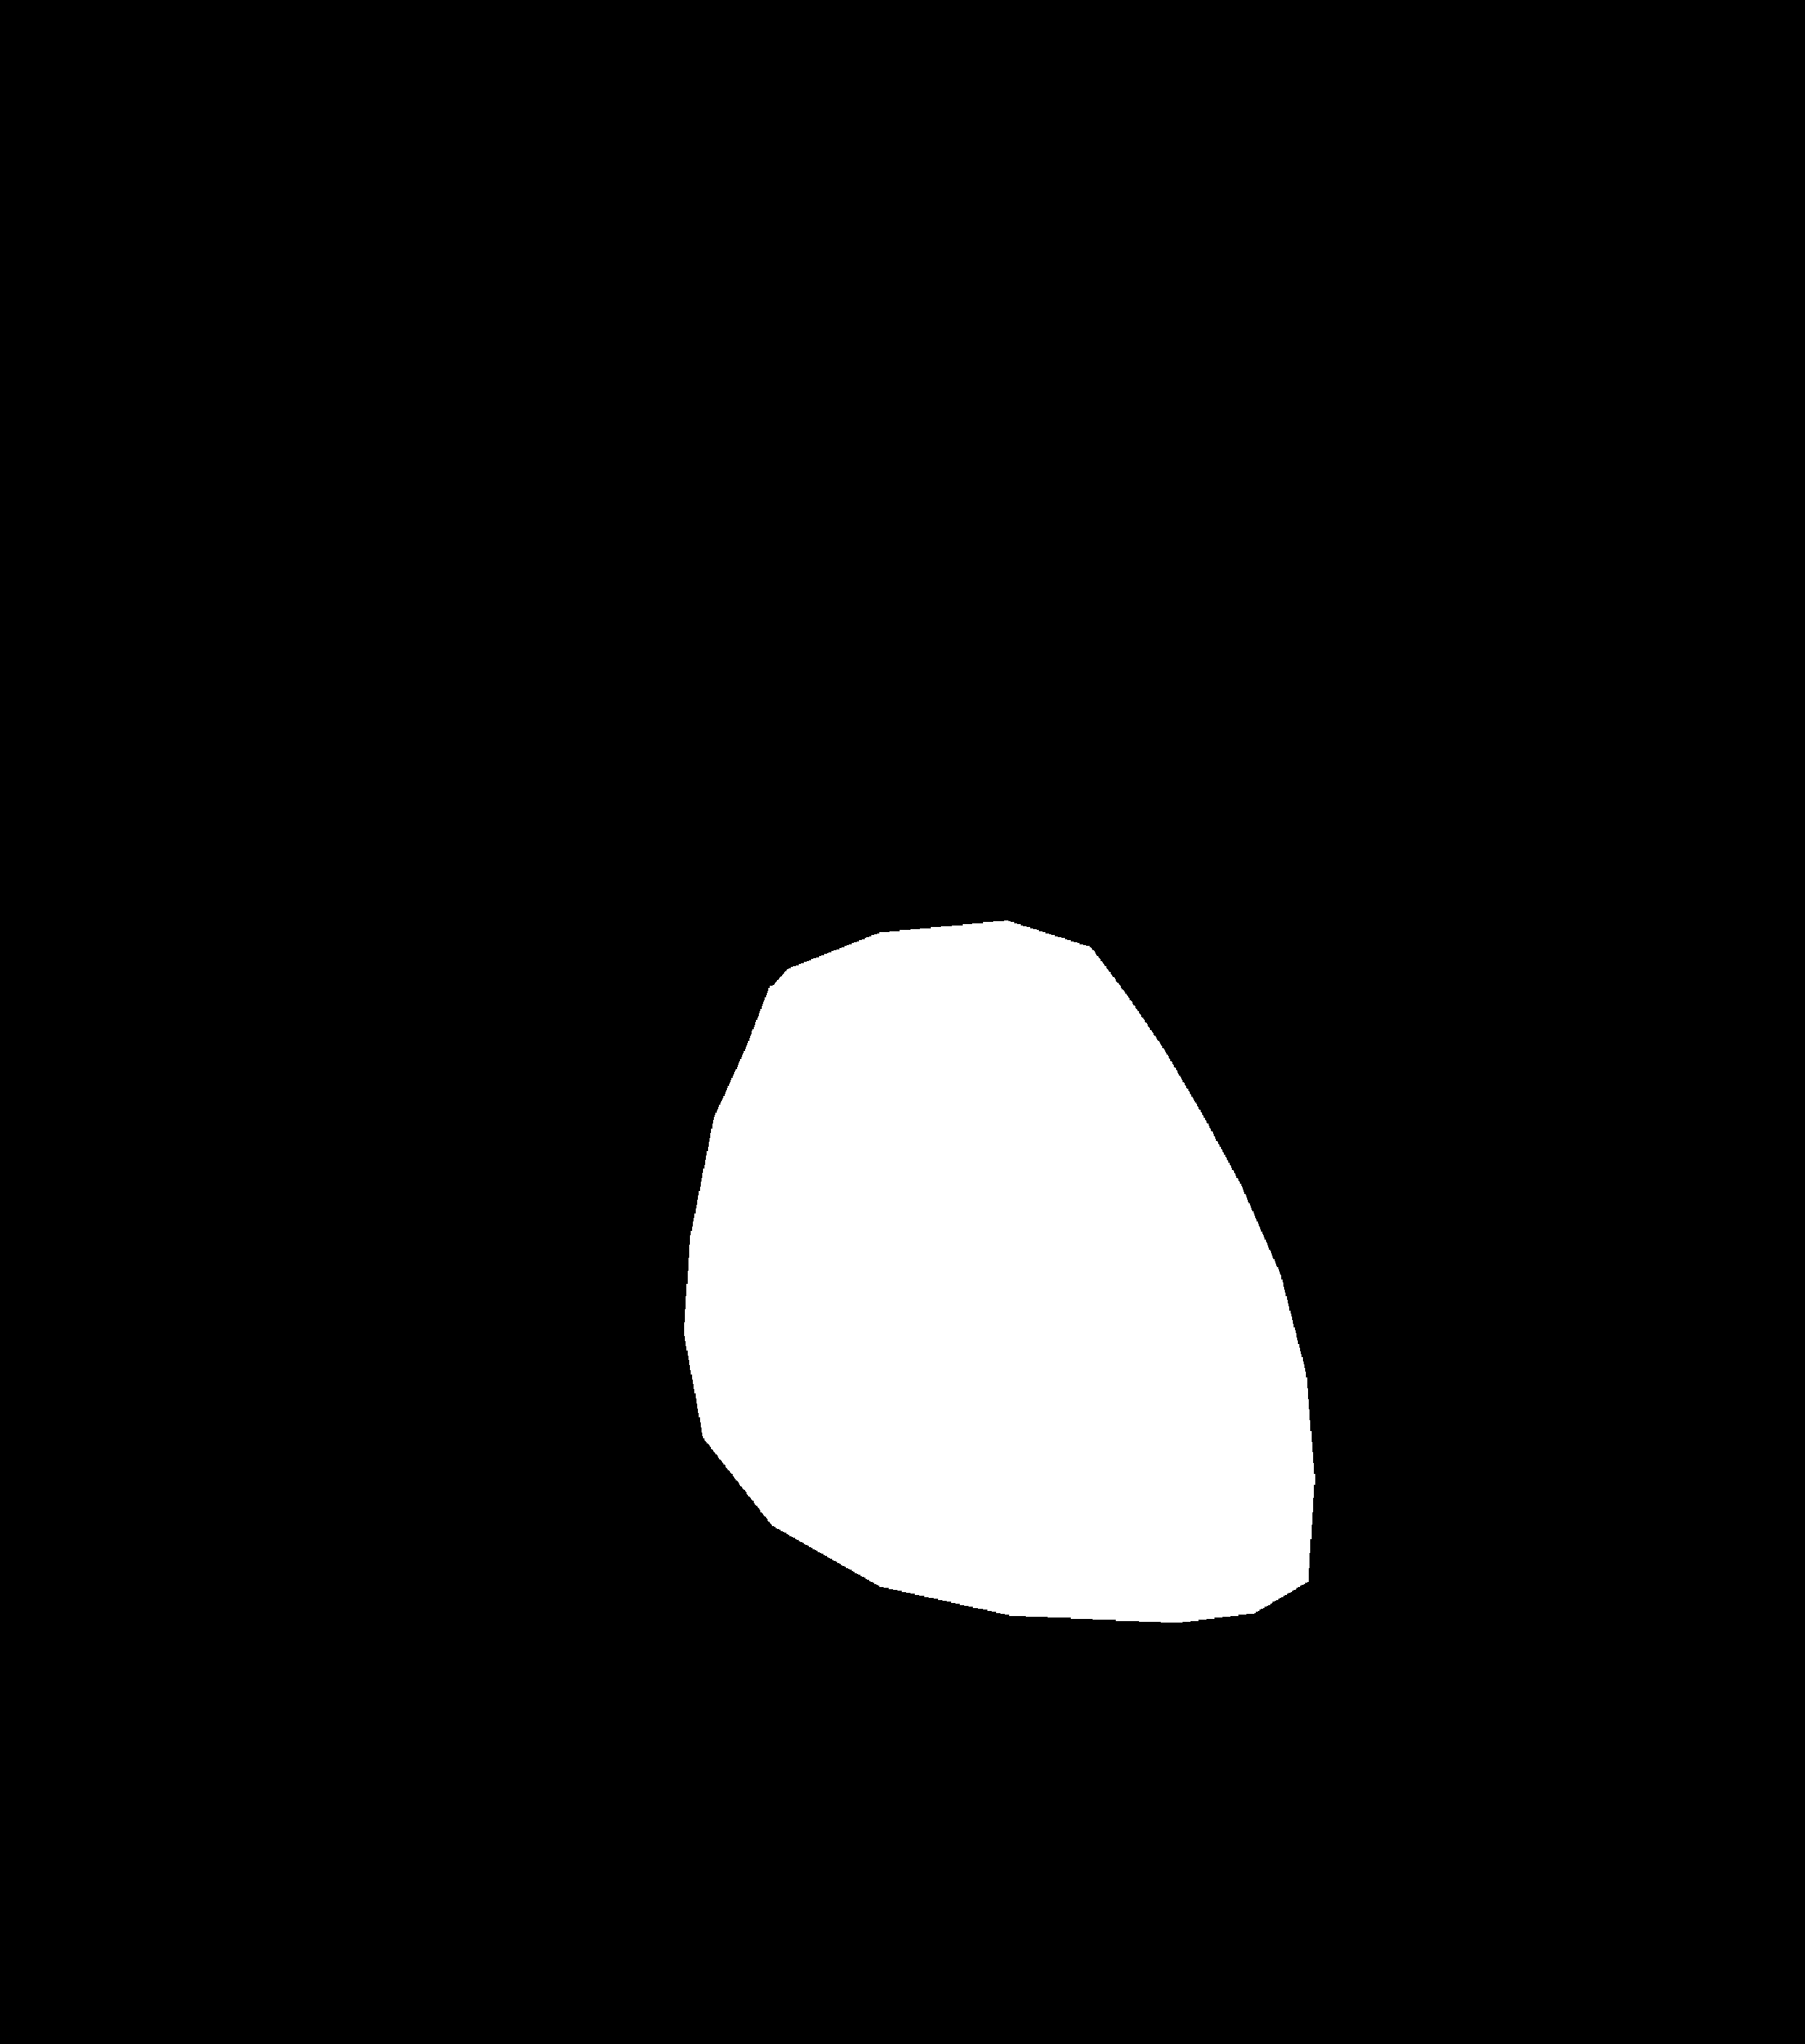heart: (692, 998, 1315, 1645)
left_lung: (186, 227, 803, 1676)
right_lung: (969, 247, 1633, 1695)
